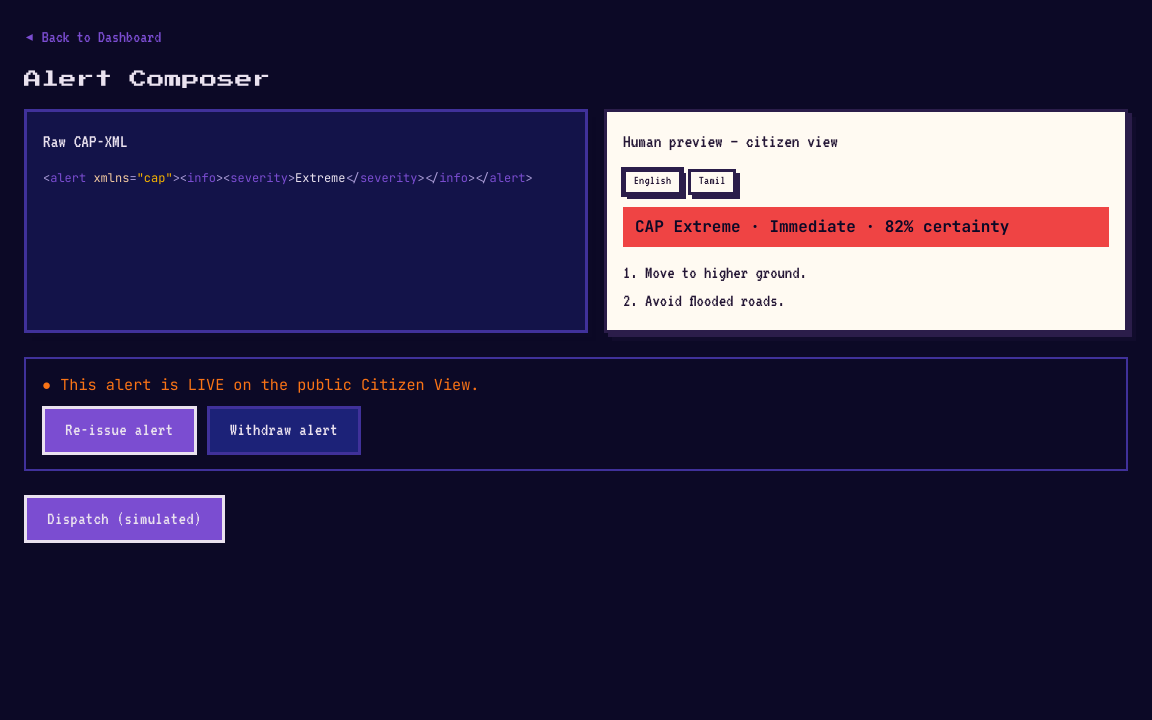
Test case: AlertComposer › switches the human preview when a real language tab is clicked
Check: the element with test id "alert-language-tabs" is shown, box [623,169,736,195]
Step 1. Click the button "Tamil" → (712, 182), box [688,169,736,195]
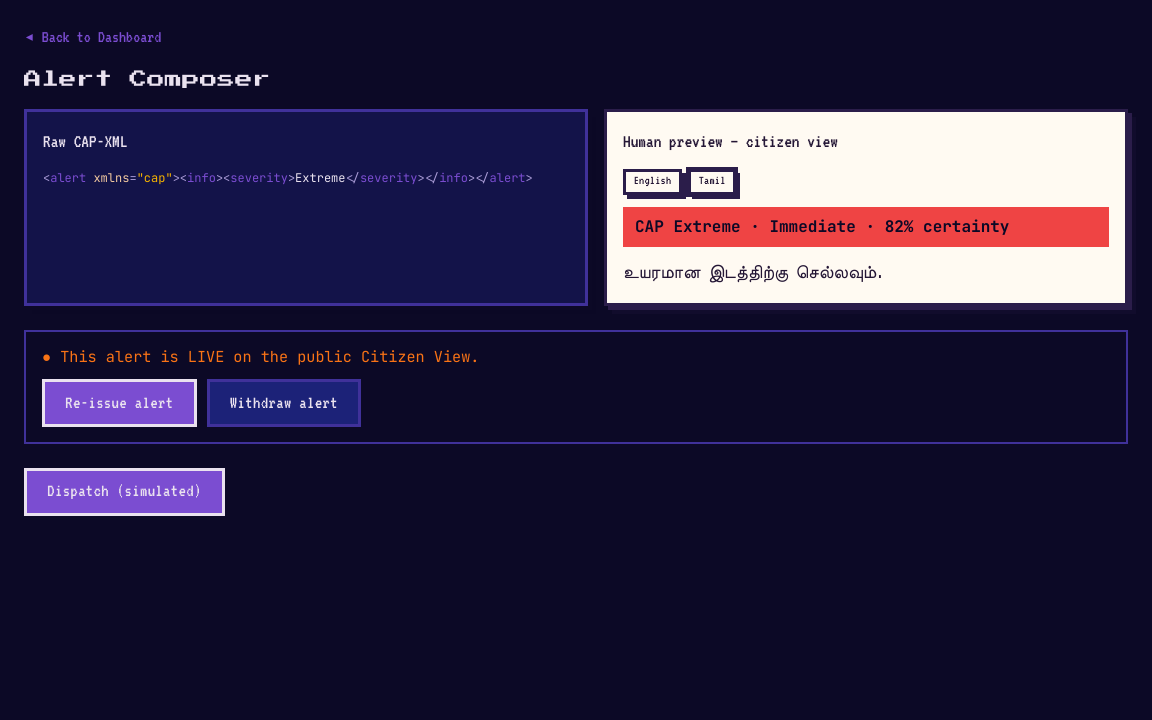
Check: the text with test id "citizen-preview-text" shows "உயரமான இடத்திற்கு", box [623,263,884,282]
